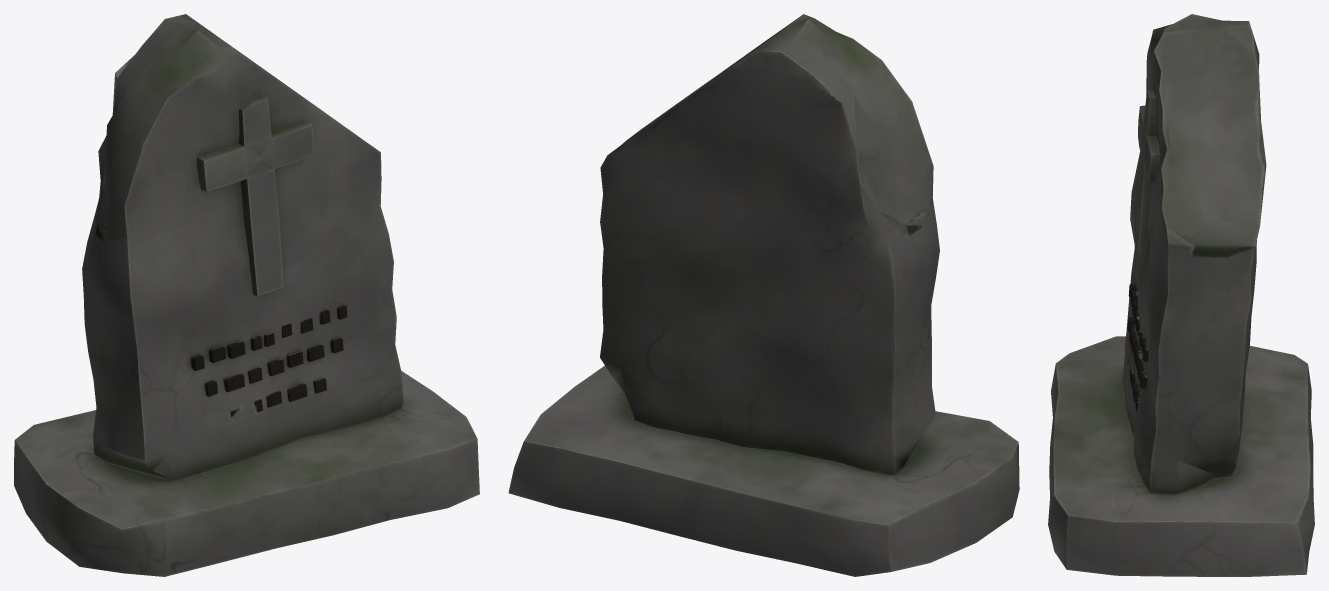
File: gravestone.glb
The picture shows the model from 3 angles, left to right: view 1: azimuth 30°, elevation 25°; view 2: azimuth 150°, elevation 25°; view 3: azimuth 270°, elevation 25°; orthographic projection. The views are drawn at different scales.
Parts seen in each view (by area): view 1: gravestone; view 2: gravestone; view 3: gravestone.
Part boxes in pixels (x1,y1,x2,y2): gravestone: (14,14,479,576); gravestone: (508,14,1019,576); gravestone: (1048,14,1314,576).
Size of the model in its own units: 0.7467 by 0.8373 by 0.4466.
1 material, 1 textured.
